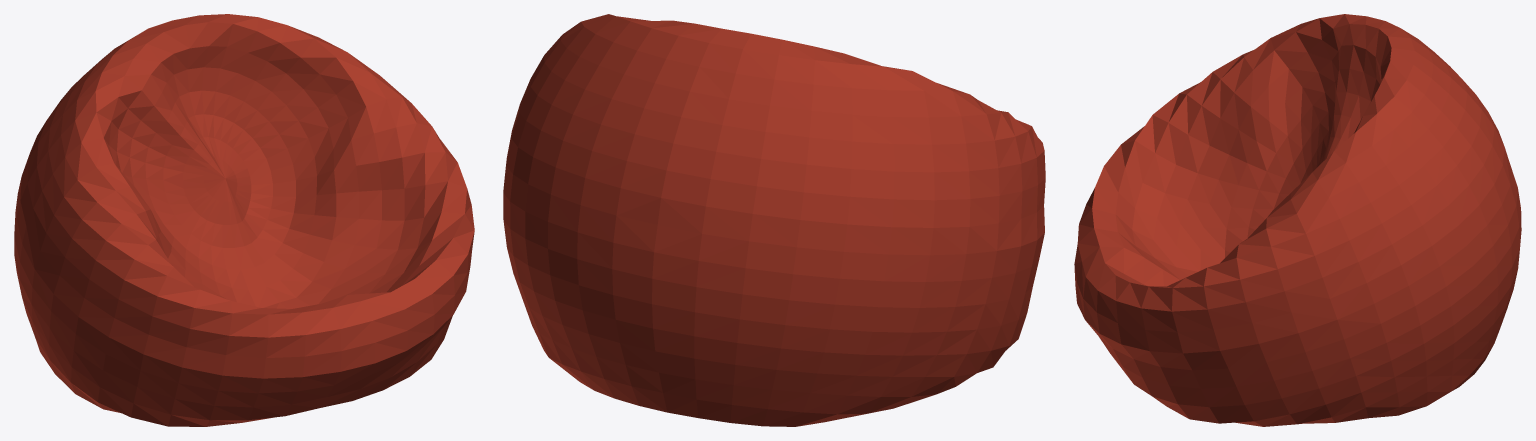
The model's file is chair.glb.
The picture shows the model from 3 angles, left to right: view 1: azimuth 30°, elevation 25°; view 2: azimuth 150°, elevation 25°; view 3: azimuth 270°, elevation 25°; orthographic projection. The views are drawn at different scales.
Parts seen in each view (by area): view 1: Node; view 2: Node; view 3: Node.
Boxes of the visible parts, box(x1,y1,x2,y2) form: Node: box(14, 14, 474, 426); Node: box(503, 14, 1045, 426); Node: box(1074, 14, 1521, 426).
Size of the model in its own units: 42.01 by 29.75 by 40.46.
